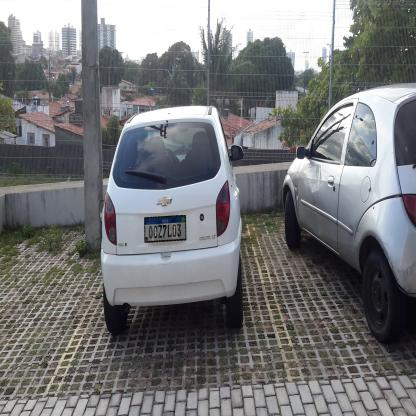PlacaM: (144, 215, 186, 243)
